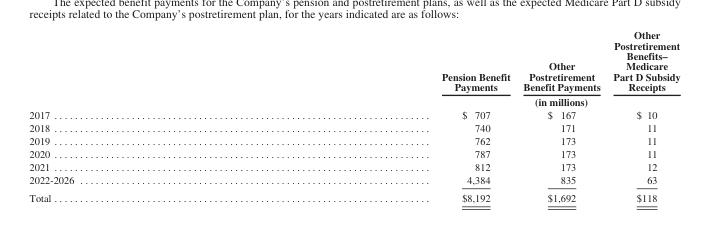table: (28, 28, 679, 203)
table column: (257, 28, 516, 203), (28, 28, 257, 203), (516, 28, 606, 203), (606, 28, 679, 203)
table column header: (28, 28, 679, 108)
table row: (28, 28, 679, 93), (28, 172, 679, 188), (28, 93, 679, 108), (28, 188, 679, 203), (28, 108, 679, 121), (28, 121, 679, 134), (28, 134, 679, 147), (28, 147, 679, 160), (28, 160, 679, 172)
table spanning cell: (257, 93, 679, 108)
